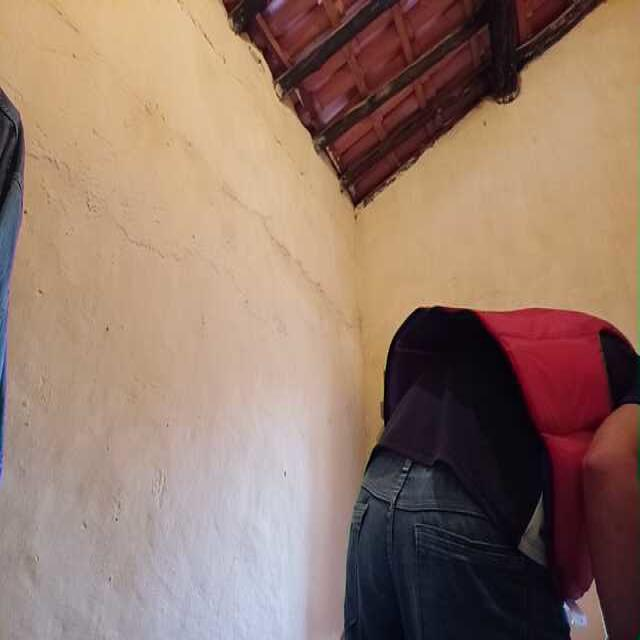colete: (456, 312, 628, 585)
pessoa: (363, 272, 640, 639)
